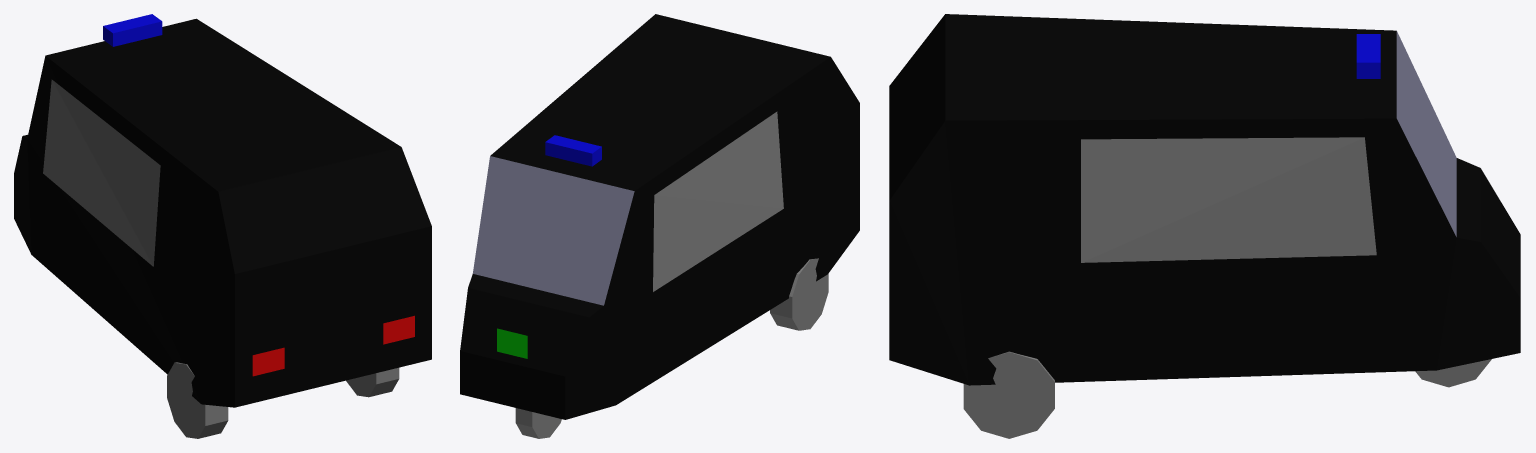
The model's file is veh_auto.glb.
The picture shows the model from 3 angles, left to right: view 1: azimuth 30°, elevation 25°; view 2: azimuth 150°, elevation 25°; view 3: azimuth 270°, elevation 25°; orthographic projection. The views are drawn at different scales.
Visible parts, largest first — view 1: veh_auto; view 2: veh_auto; view 3: veh_auto.
Part boxes in pixels (bbox=[...]): veh_auto: bbox=[14, 14, 431, 438]; veh_auto: bbox=[460, 14, 859, 438]; veh_auto: bbox=[889, 14, 1520, 438].
Size of the model in its own units: 1.37 by 1.84 by 3.17.
